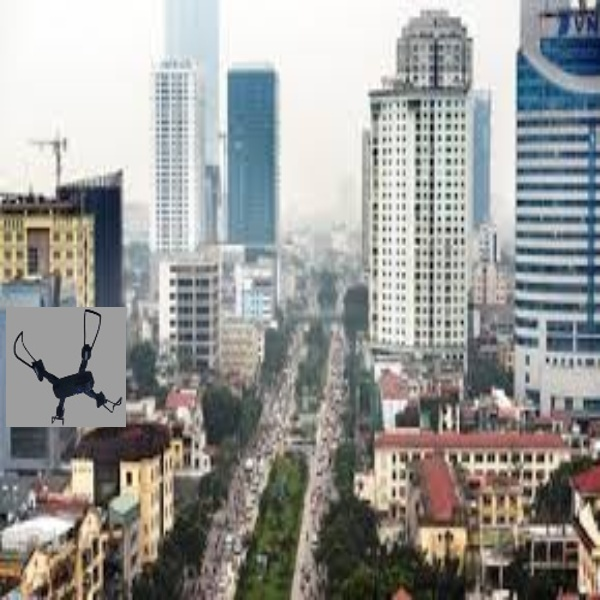drone: (15, 312, 128, 423)
